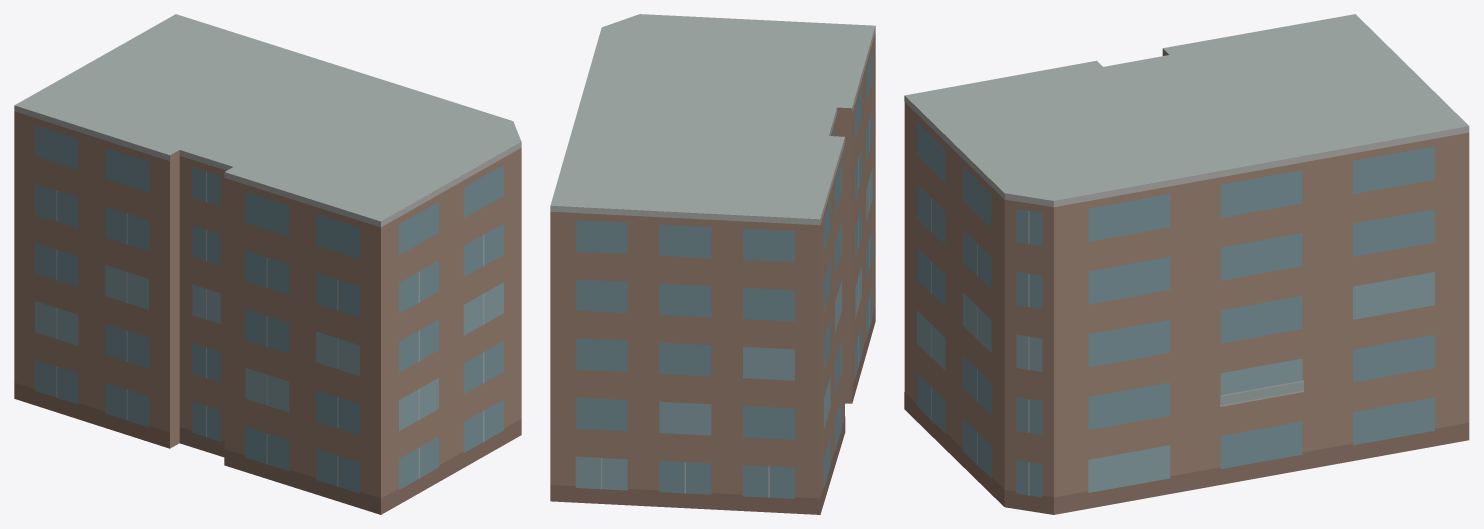
The model's file is survey-upis-32966556.glb.
3 views of the same model, side by side, from view 1: azimuth 30°, elevation 25°; view 2: azimuth 150°, elevation 25°; view 3: azimuth 270°, elevation 25° (orthographic). The views are drawn at different scales.
Visible parts, largest first — view 1: survey-upis-32966556.tmp; view 2: survey-upis-32966556.tmp; view 3: survey-upis-32966556.tmp.
Part boxes in pixels (<box>): survey-upis-32966556.tmp: <box>14,14,521,514</box>; survey-upis-32966556.tmp: <box>550,14,875,514</box>; survey-upis-32966556.tmp: <box>904,14,1469,514</box>.
Bounding box in the file's own units: 15.46 × 12.1 × 19.74.
